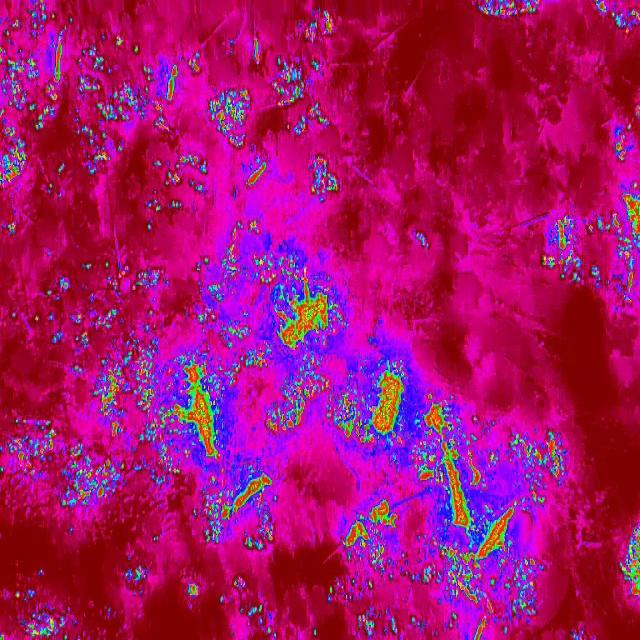fire: (0, 220, 344, 468), (322, 341, 572, 640), (0, 462, 276, 640), (1, 0, 210, 216), (203, 10, 357, 208), (537, 192, 640, 316), (614, 99, 640, 162), (465, 0, 544, 20), (621, 523, 640, 601), (594, 0, 640, 32)
